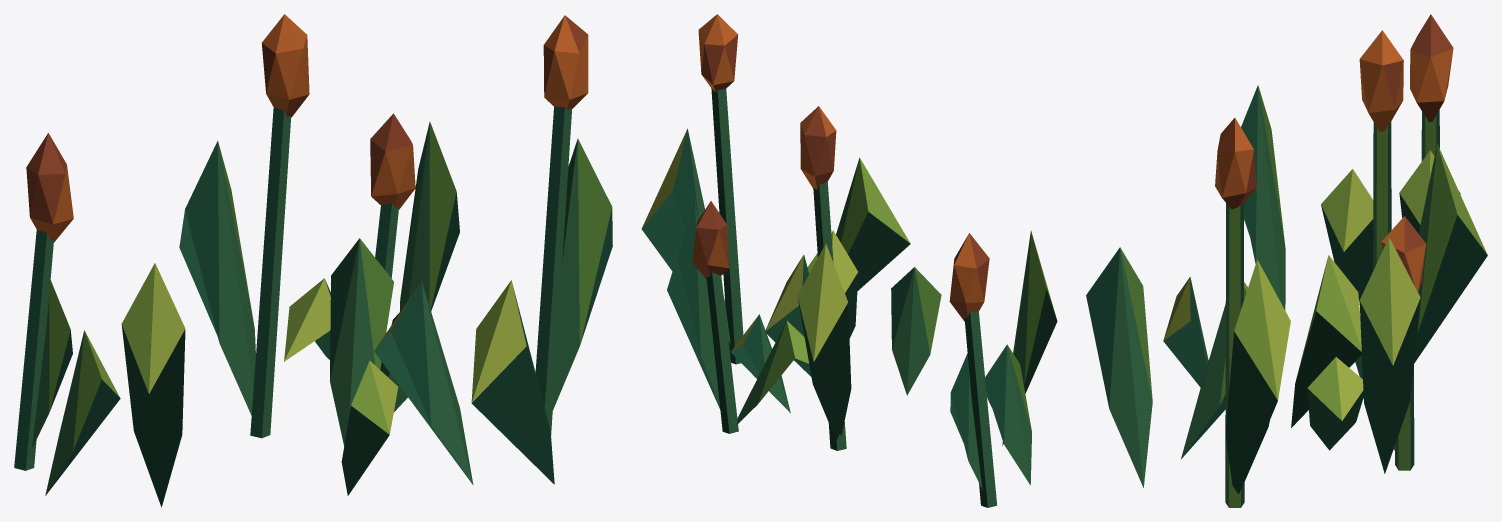
The model's file is grove_reeds.glb.
3 renders of one model, left to right at view 1: azimuth 30°, elevation 25°; view 2: azimuth 150°, elevation 25°; view 3: azimuth 270°, elevation 25°, orthographic. The views are drawn at different scales.
Visible parts, largest first — view 1: grove_reeds; view 2: grove_reeds; view 3: grove_reeds.
Boxes of the visible parts, x1=… form: grove_reeds: x1=14, y1=14, x2=612, y2=507; grove_reeds: x1=641, y1=14, x2=1057, y2=507; grove_reeds: x1=1086, y1=14, x2=1487, y2=507.
Size of the model in its own units: 2.51 by 1.94 by 1.77.
